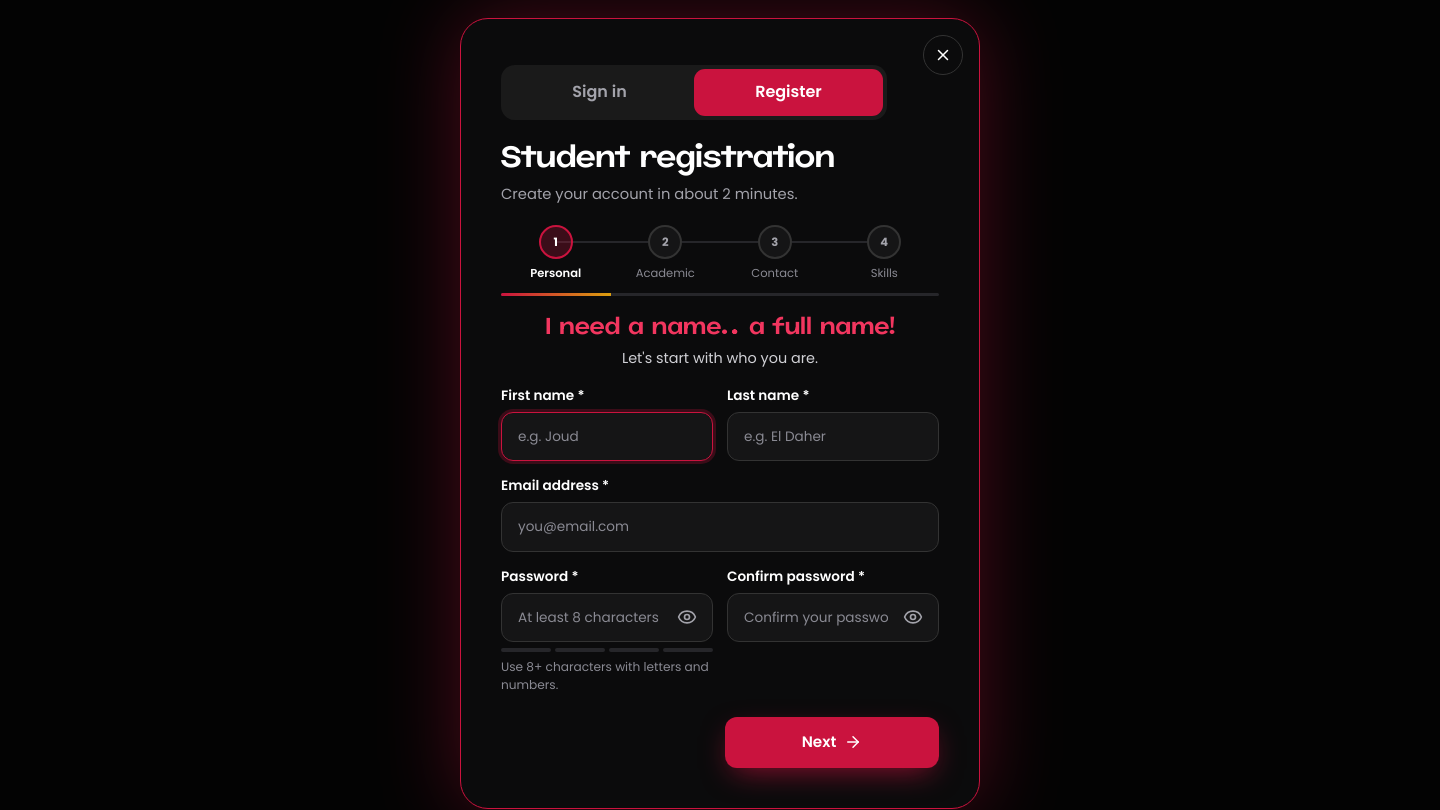
Test: registration: validation and server errors › blocks Next with inline errors and focuses the first invalid field
Click the button "Next" at (832, 742), box [725,717,939,768]
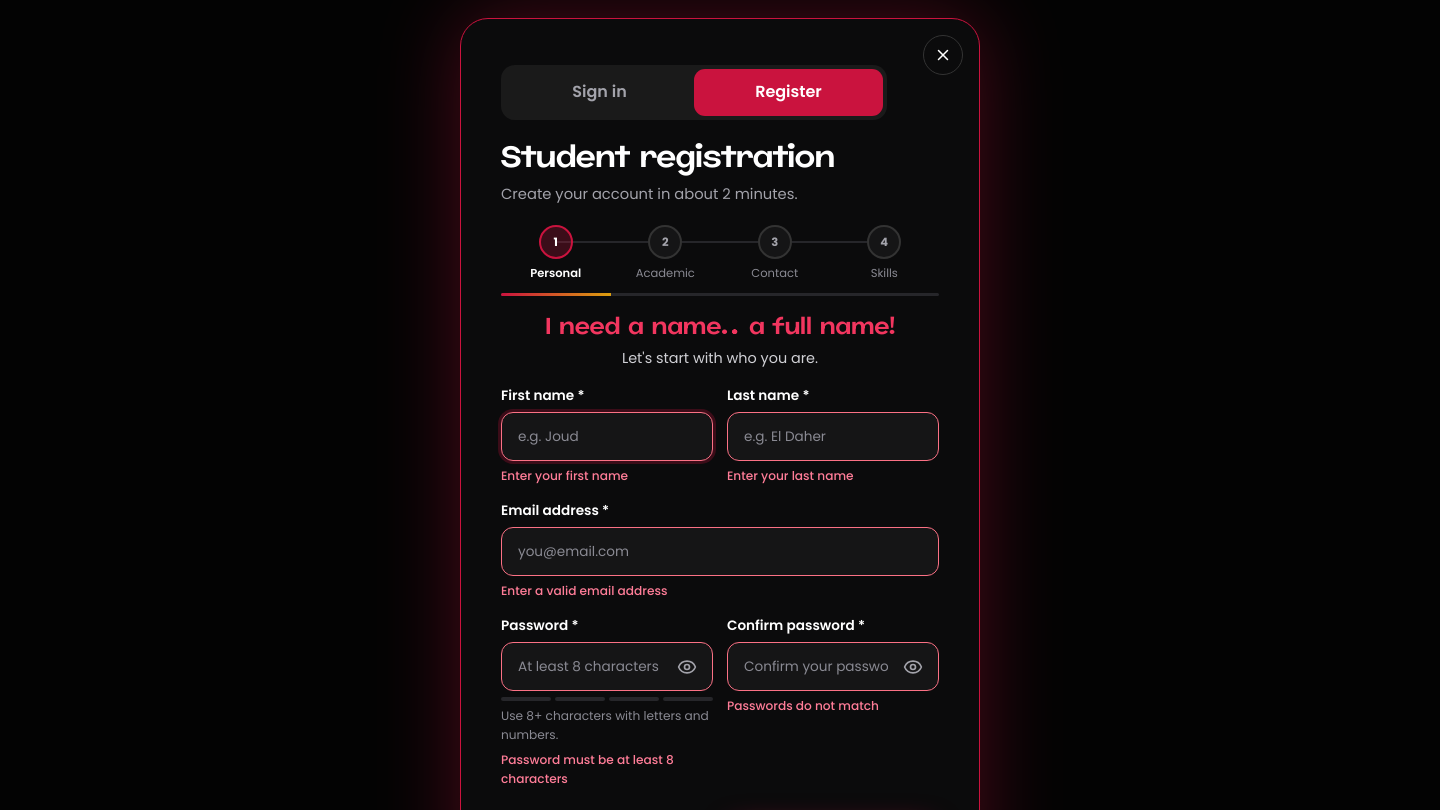
Expected: the text "Enter your first name" is shown, [501,467,628,484]
Type "J" into the field labelled "First name *" at (607, 437), box [501,412,713,461]
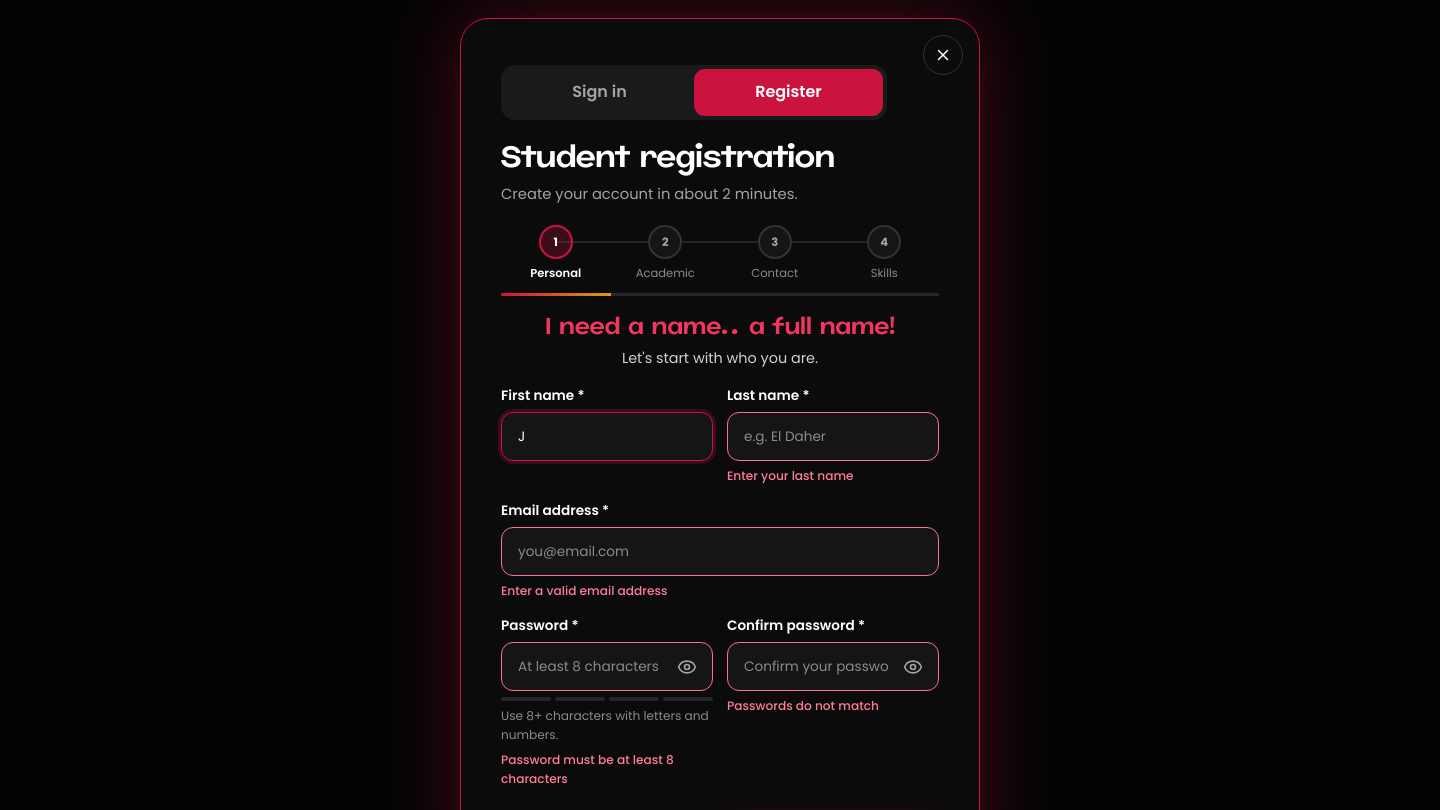
Expected: the text "Enter your first name" is gone
